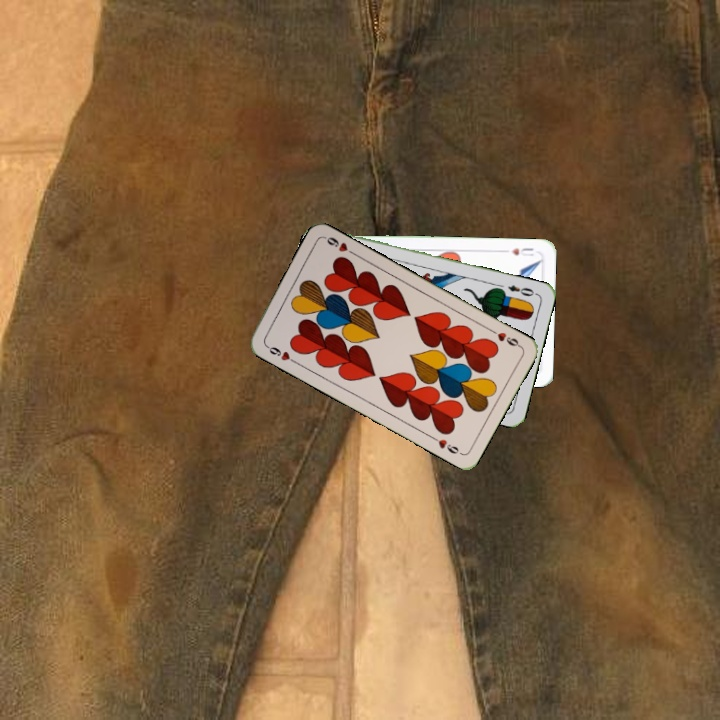EO: (504, 281, 536, 299)
H9: (486, 325, 523, 350), (262, 341, 299, 366)
HU: (507, 244, 536, 259)
